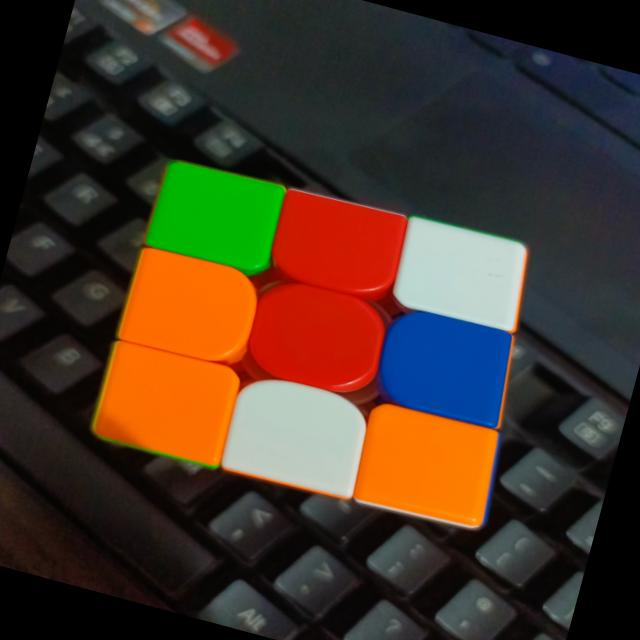rubik: (84, 146, 558, 542)
